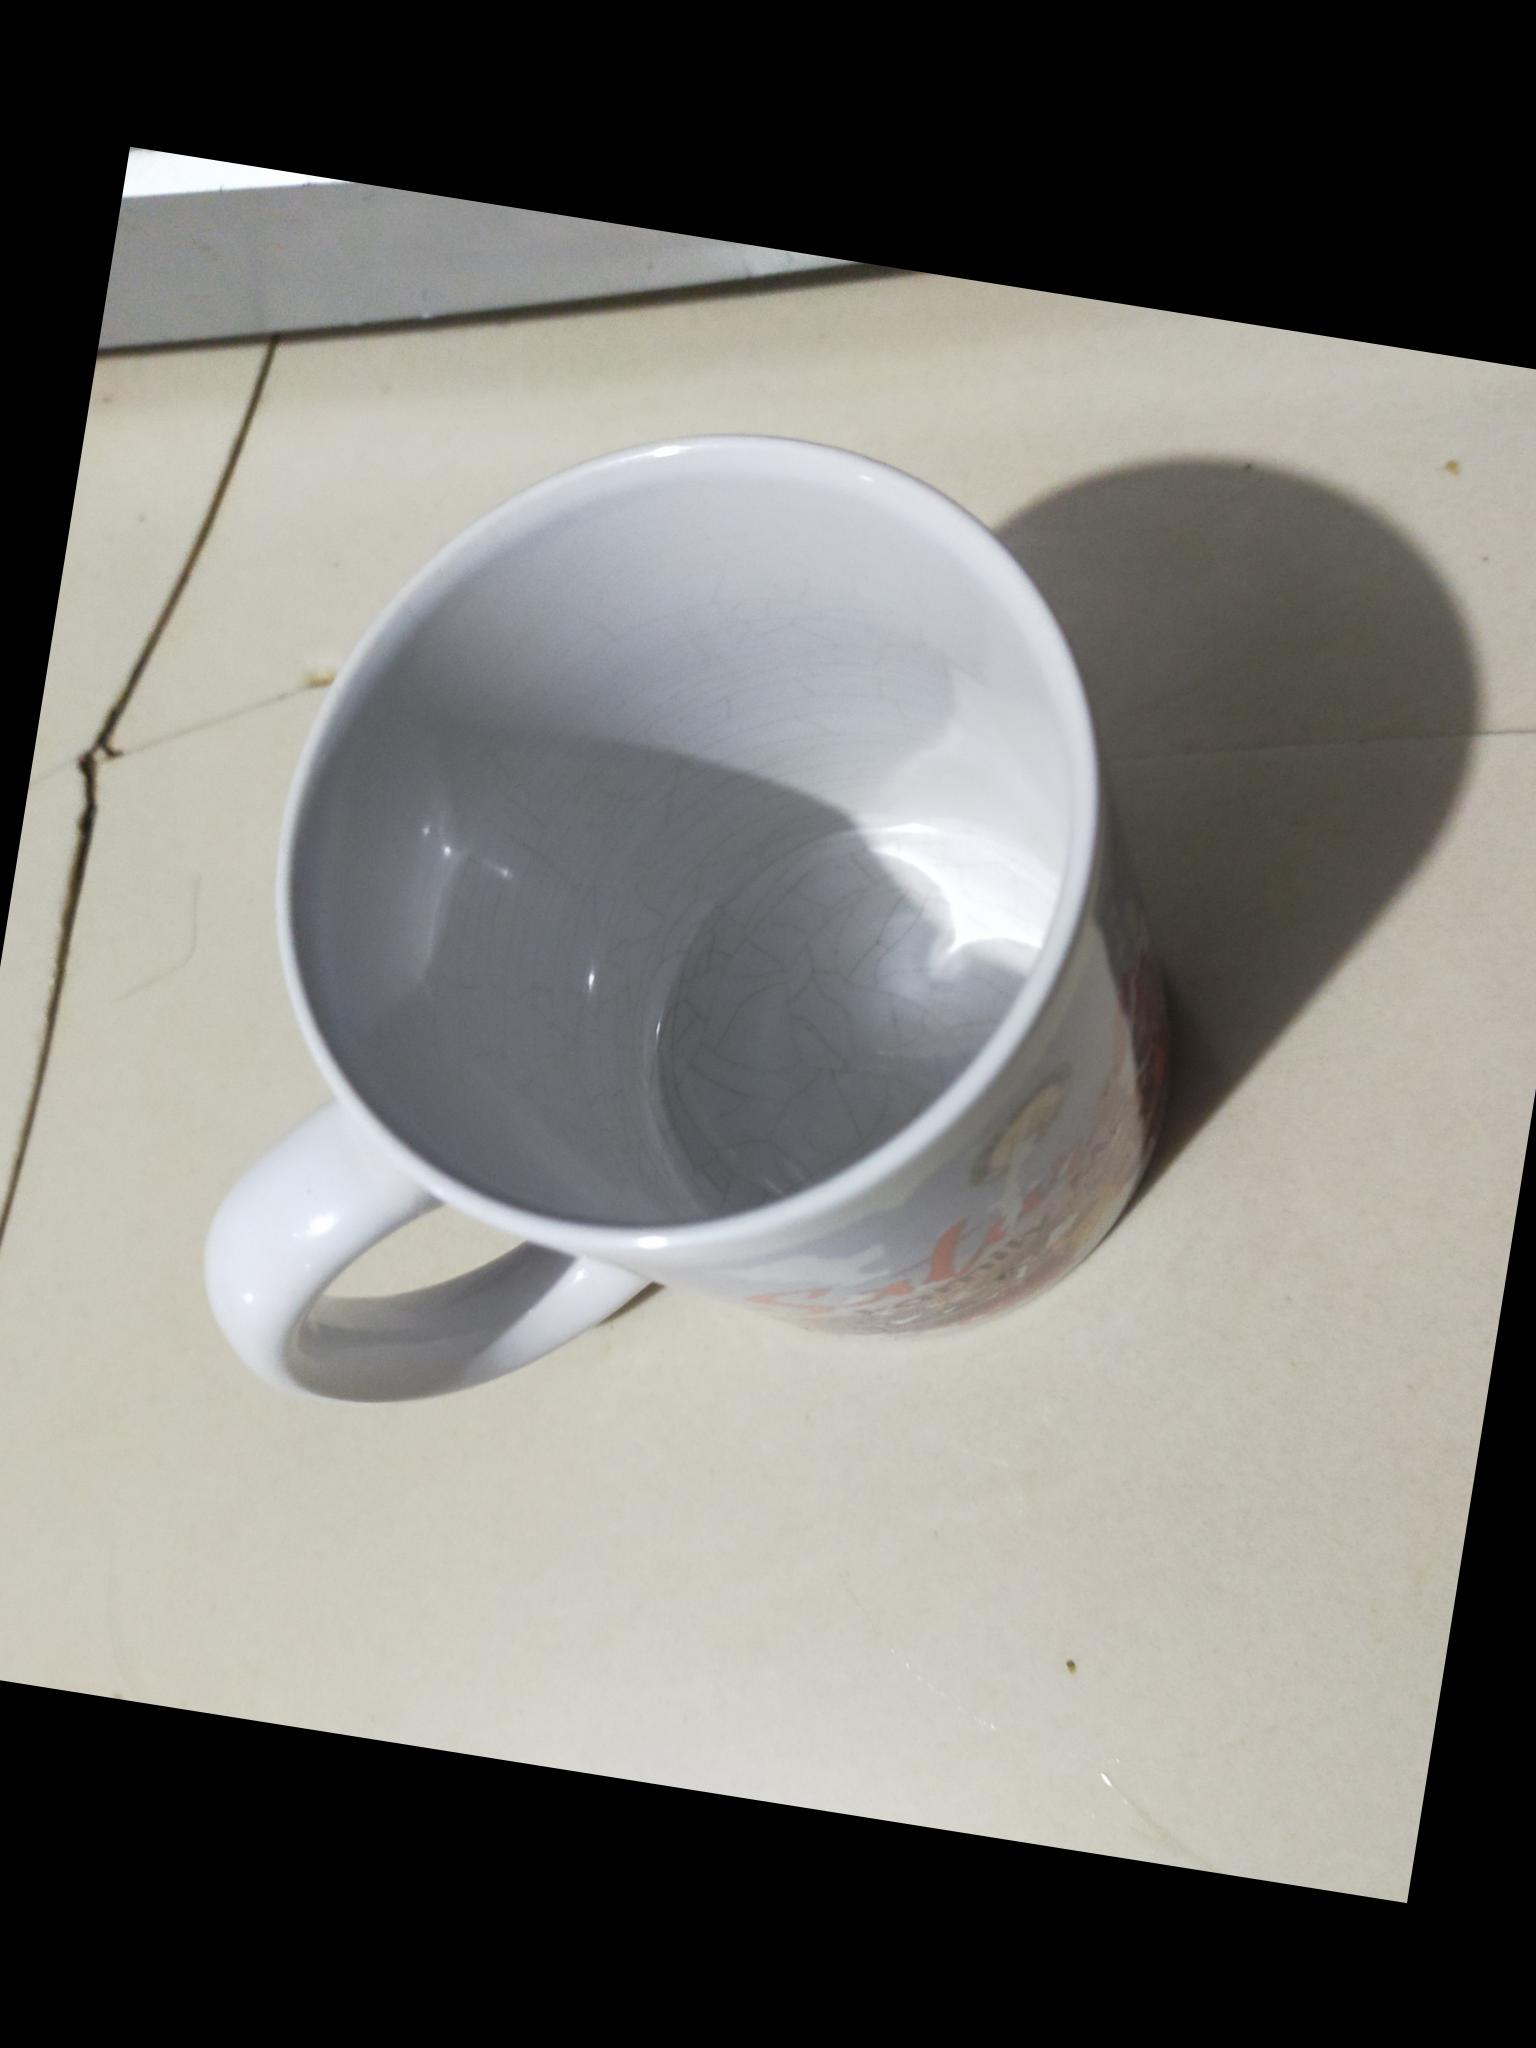Coffee Mug: (190, 361, 1271, 1516)
